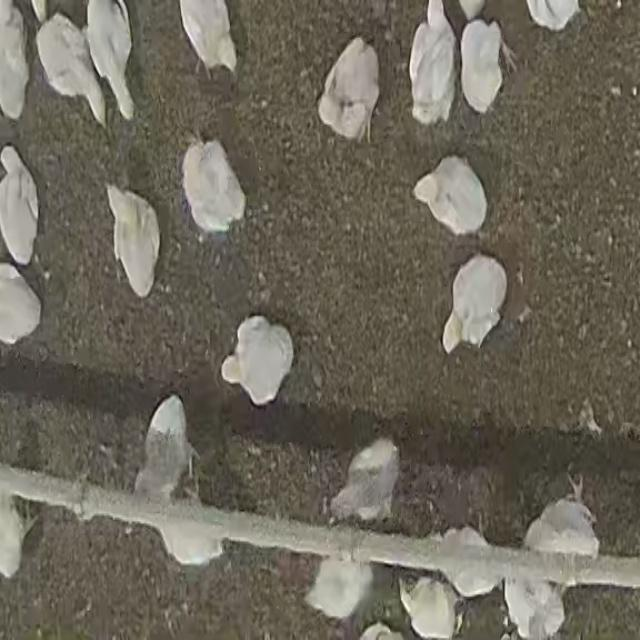chicken: (35, 12, 109, 129), (220, 314, 294, 407), (136, 394, 197, 504), (317, 37, 380, 143), (85, 0, 140, 121), (182, 135, 249, 234), (104, 183, 160, 299), (442, 253, 507, 352), (525, 477, 599, 561), (332, 435, 402, 523), (416, 155, 488, 239), (409, 4, 457, 125), (147, 494, 225, 565), (459, 15, 509, 116), (431, 528, 504, 595), (177, 0, 237, 78), (1, 147, 40, 265), (305, 553, 374, 619), (399, 579, 458, 639), (509, 577, 566, 638)
